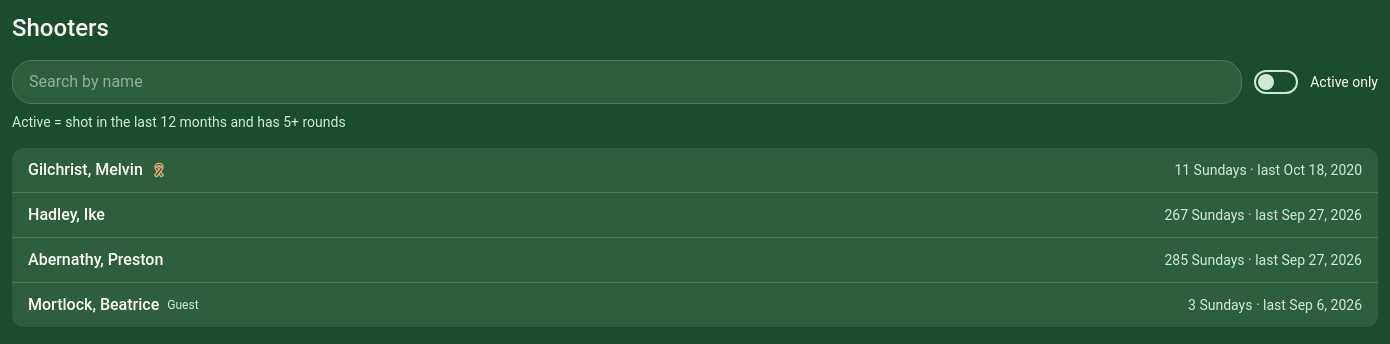
Test: ShootersPage › searches by name as you type
The image size is (1390, 344).
Type "gilchrist" into the search field named "Search shooters" at (627, 82), box [12,60,1242,104]
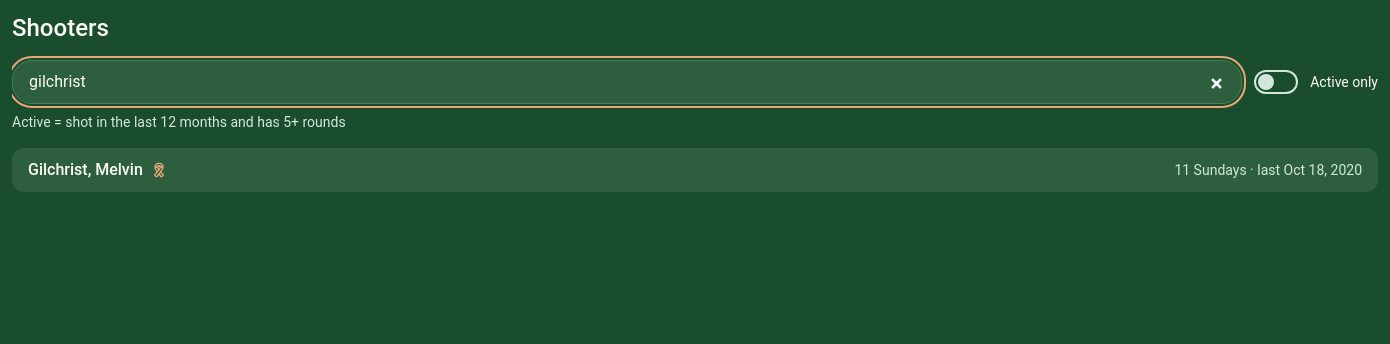
Result: the number of list items is 1 at [28,160,1362,179]
